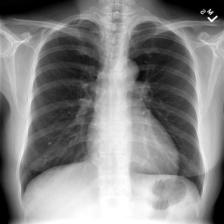normal: (15, 14, 208, 205)
